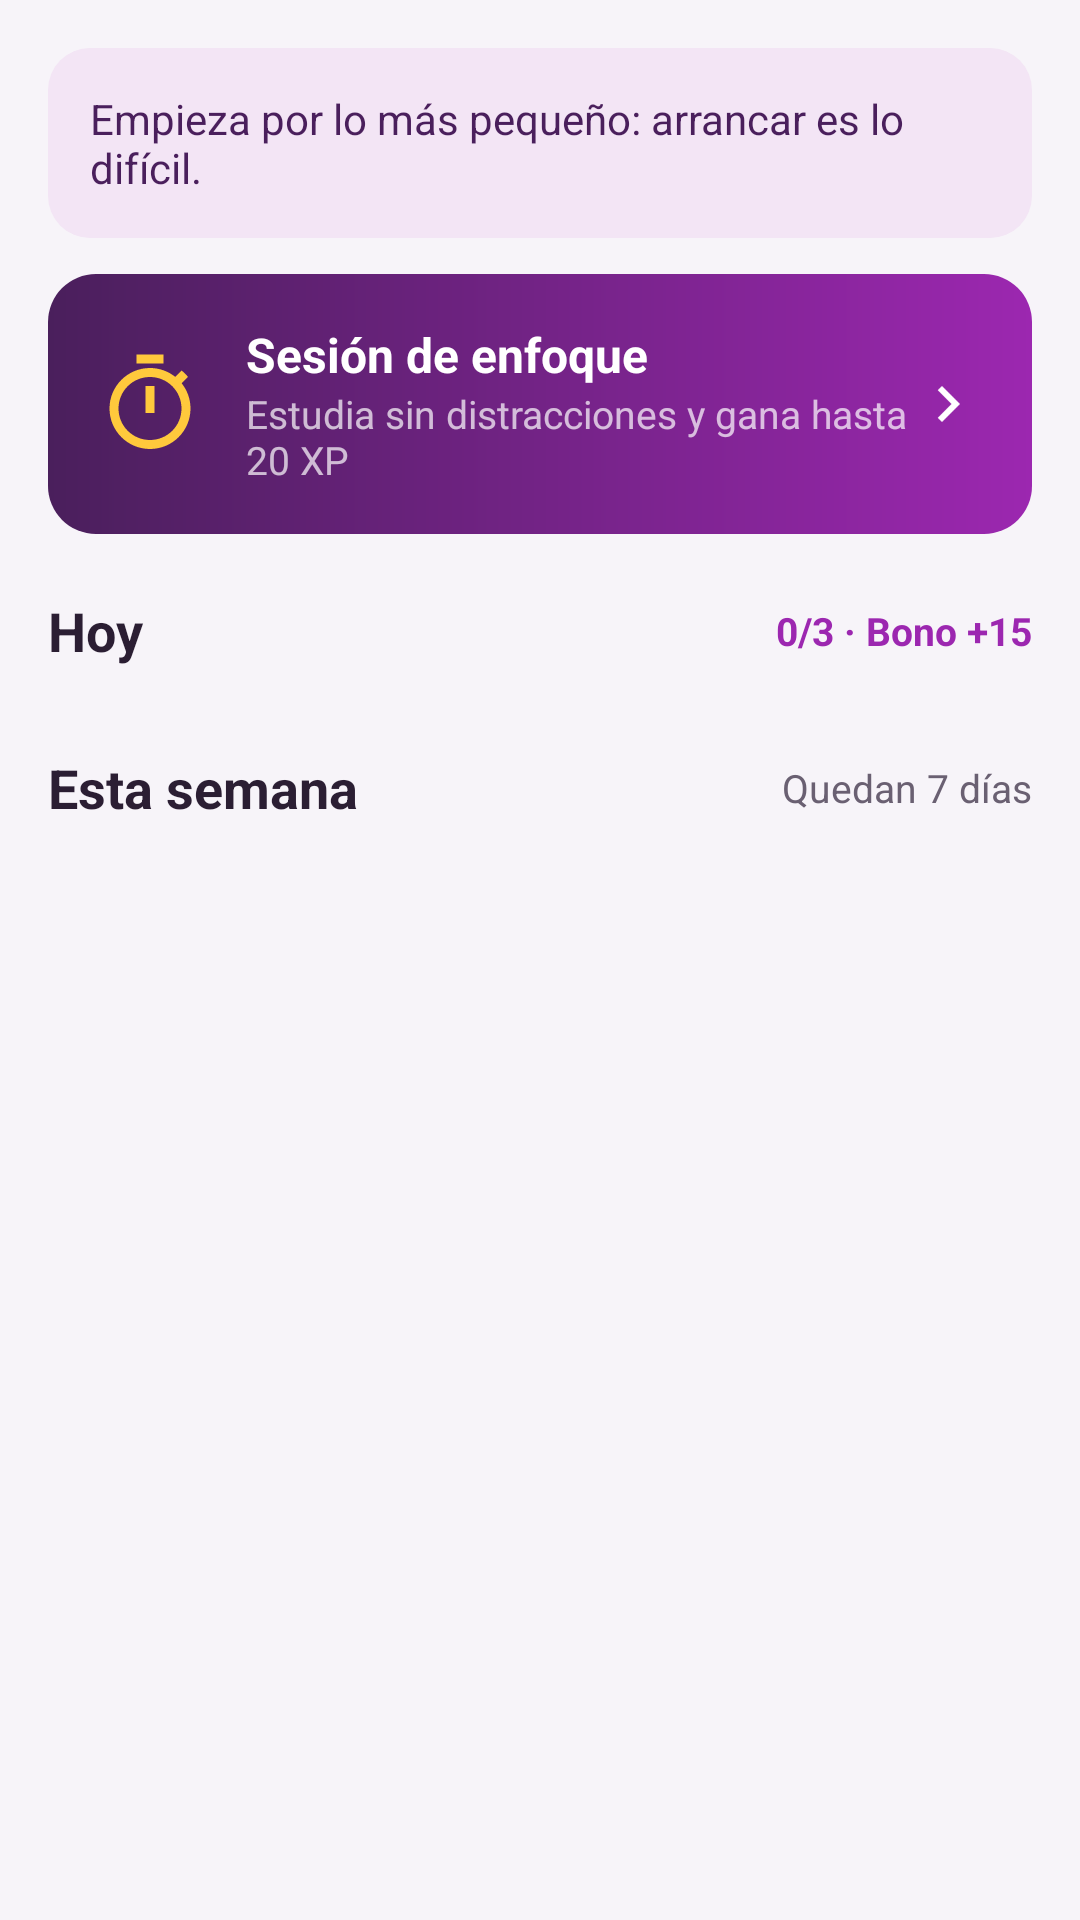

Named icons in this screenshot (1080*1920) and their bounding boxes, (x1, y1, x2, y2):
chevron right: (938, 386, 960, 422)
gami enfoque: (109, 354, 191, 449)
